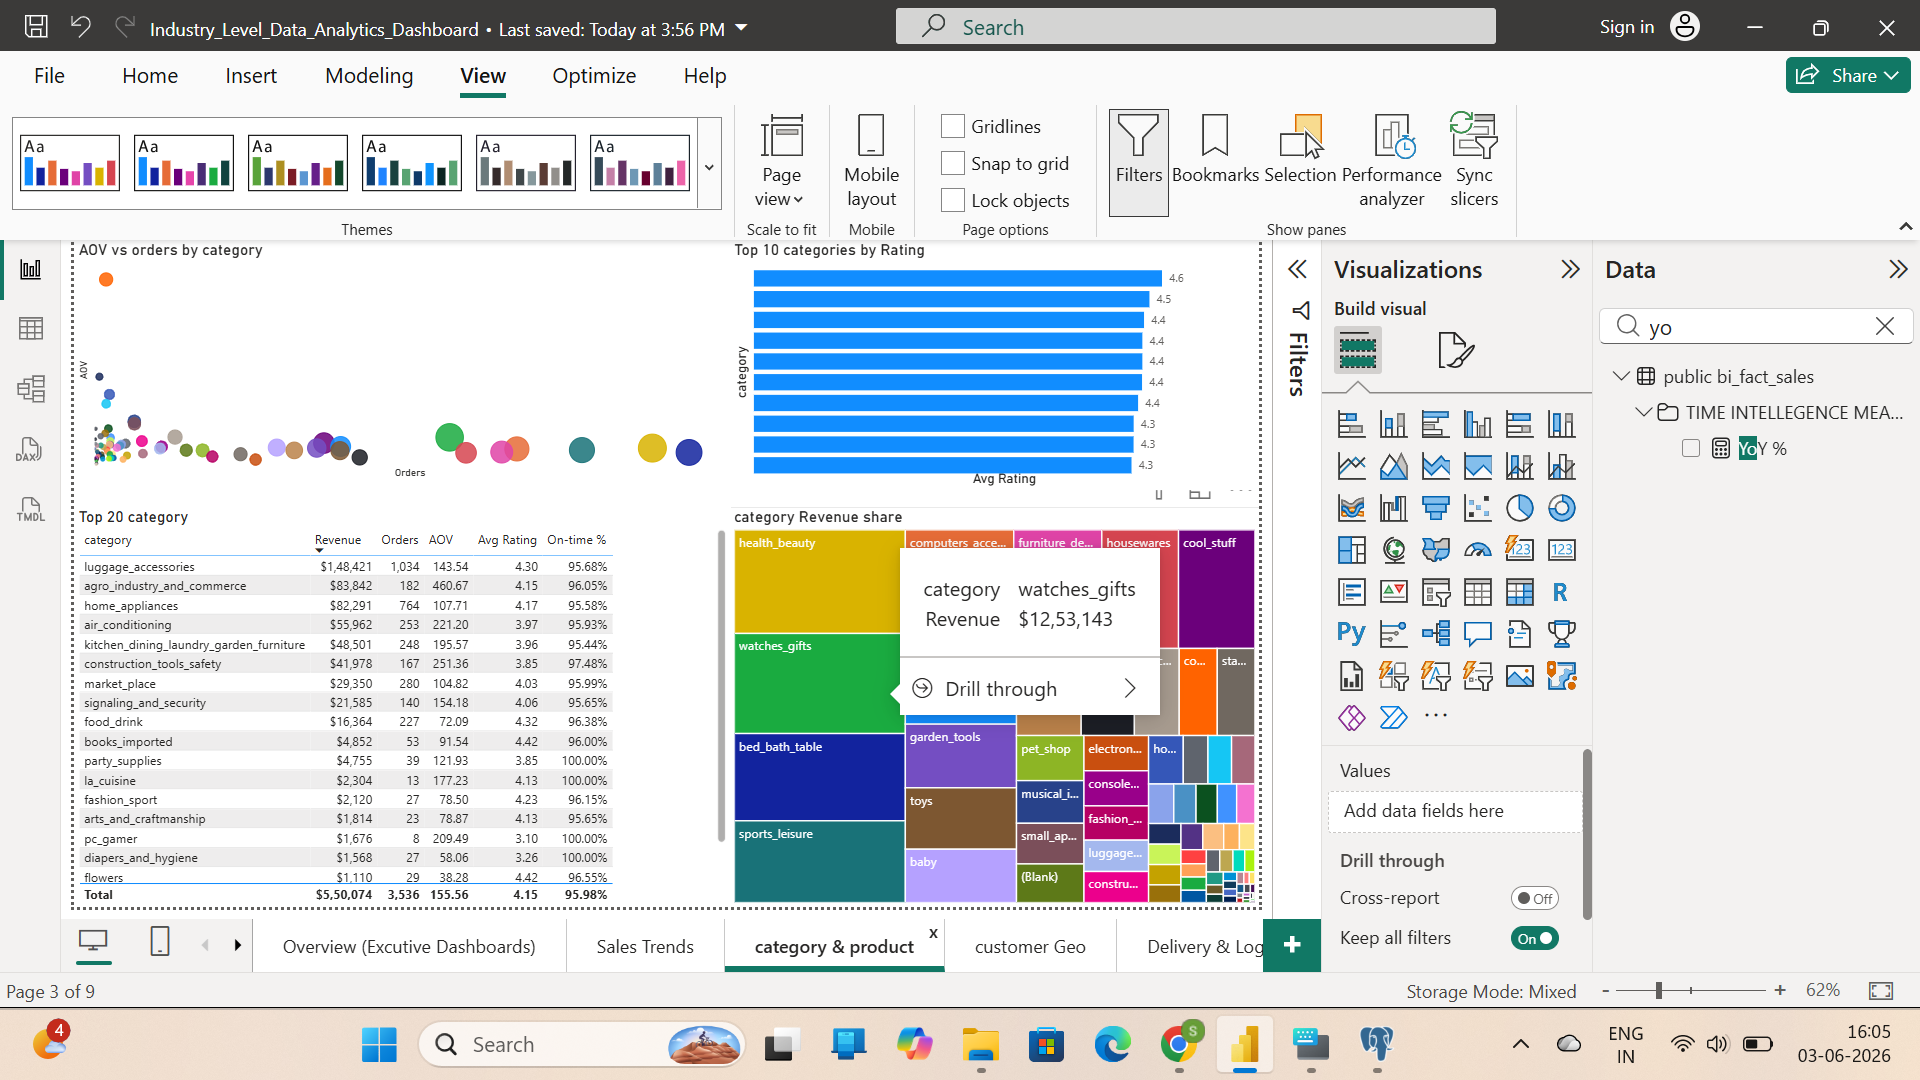

The page's visual inventory and layout, read from the dashboard file:
{"tool":"powerbi","page":{"name":"category & product","canvas":[1280,720],"ordinal":2},"visuals":[{"type":"treemap","title":"category Revenue share","fields":{"Group":["public bi_fact_sales.category"],"Values":["public bi_fact_sales.Revenue"]},"box":[708.3,288.3,571.7,431.7],"z":0},{"type":"scatterChart","title":"AOV vs orders by category","fields":{"X":["public bi_fact_sales.Orders"],"Y":["public bi_fact_sales.AOV"],"Series":["public bi_fact_sales.category"],"Size":["public bi_fact_sales.Revenue"]},"box":[0,0,708.3,261.7],"z":1000},{"type":"barChart","title":"Top 10 categories by Rating","fields":{"Category":["public bi_fact_sales.category"],"Y":["public bi_fact_sales.Avg Rating"]},"box":[708.3,0,571.7,270],"z":2000},{"type":"tableEx","title":"Top 20 category","fields":{"Values":["public bi_fact_sales.category","public bi_fact_sales.Revenue","public bi_fact_sales.Orders","public bi_fact_sales.AOV","public bi_fact_sales.Avg Rating","public bi_fact_sales.On-time %"]},"box":[0,288.3,708.3,431.7],"z":3000}]}

Visuals, with their boxes on the page's 1280x720 design canvas (x1, y1, x2, y2). These are canvas units, not pixel positions in the 1920x1080 screenshot, which may show the page scaled, cropped or inside an application window:
"category Revenue share" treemap: bbox=(708, 288, 1280, 720)
"AOV vs orders by category" scatterChart: bbox=(0, 0, 708, 262)
"Top 10 categories by Rating" barChart: bbox=(708, 0, 1280, 270)
"Top 20 category" tableEx: bbox=(0, 288, 708, 720)
